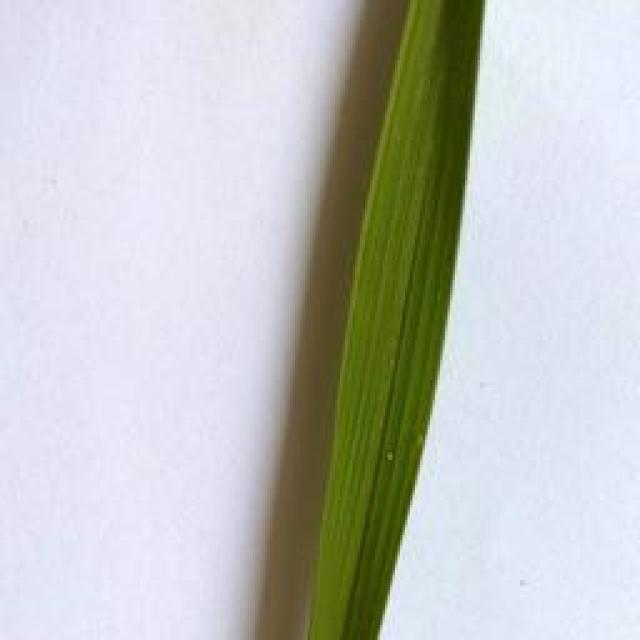Healthy-Plant: (310, 0, 485, 640)
